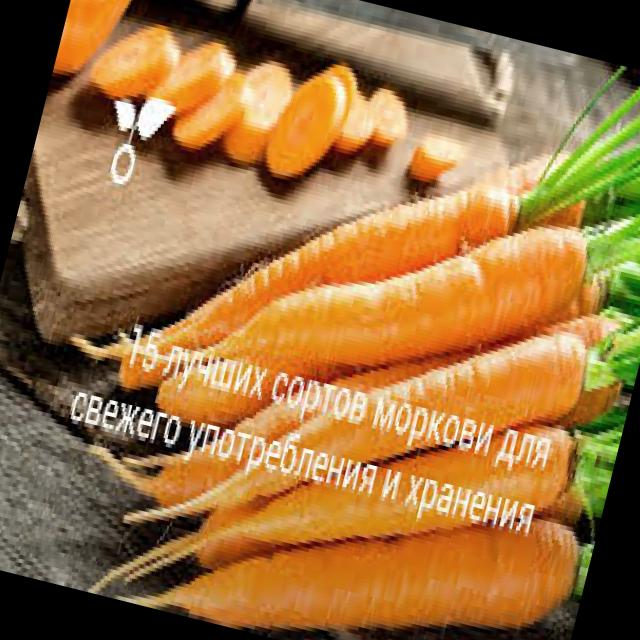Carrot: (119, 106, 527, 466), (178, 136, 606, 454), (200, 253, 601, 580), (216, 338, 606, 636), (155, 434, 596, 640), (83, 7, 431, 190), (48, 0, 142, 101), (397, 99, 472, 198)
